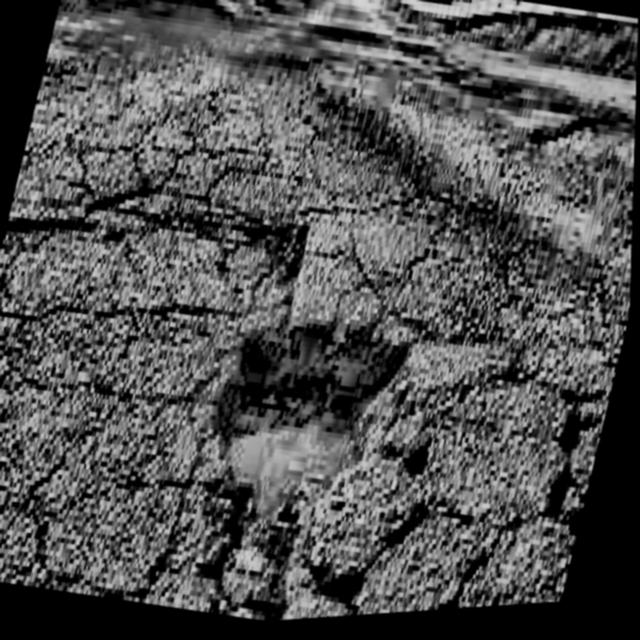pothole: (216, 305, 409, 513)
